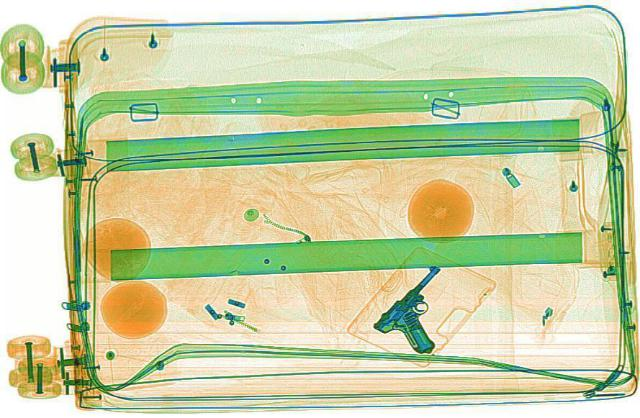Gun: (361, 262, 495, 353)
